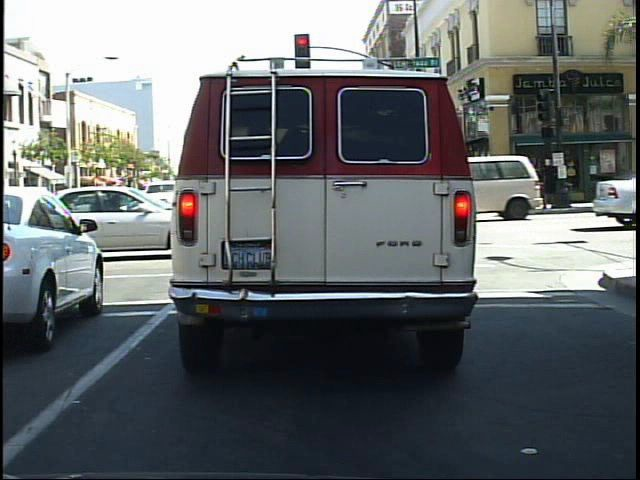person: (536, 154, 562, 214), (516, 157, 541, 215), (482, 156, 501, 214), (491, 165, 511, 213)
